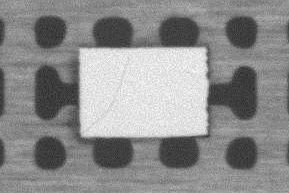DIE_CRACK: (81, 57, 129, 133)
